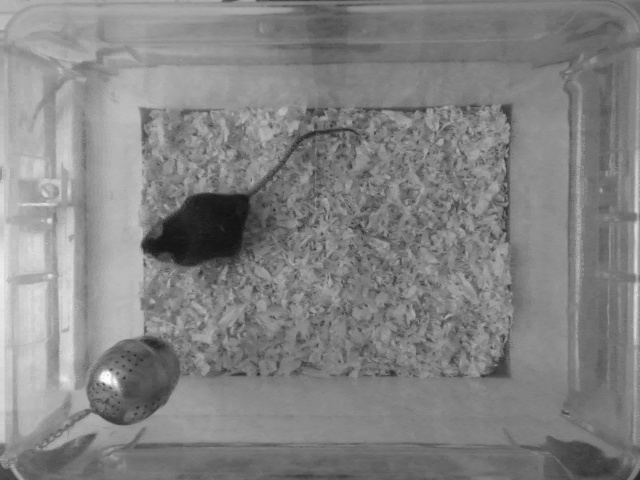mice: (135, 123, 362, 270)
